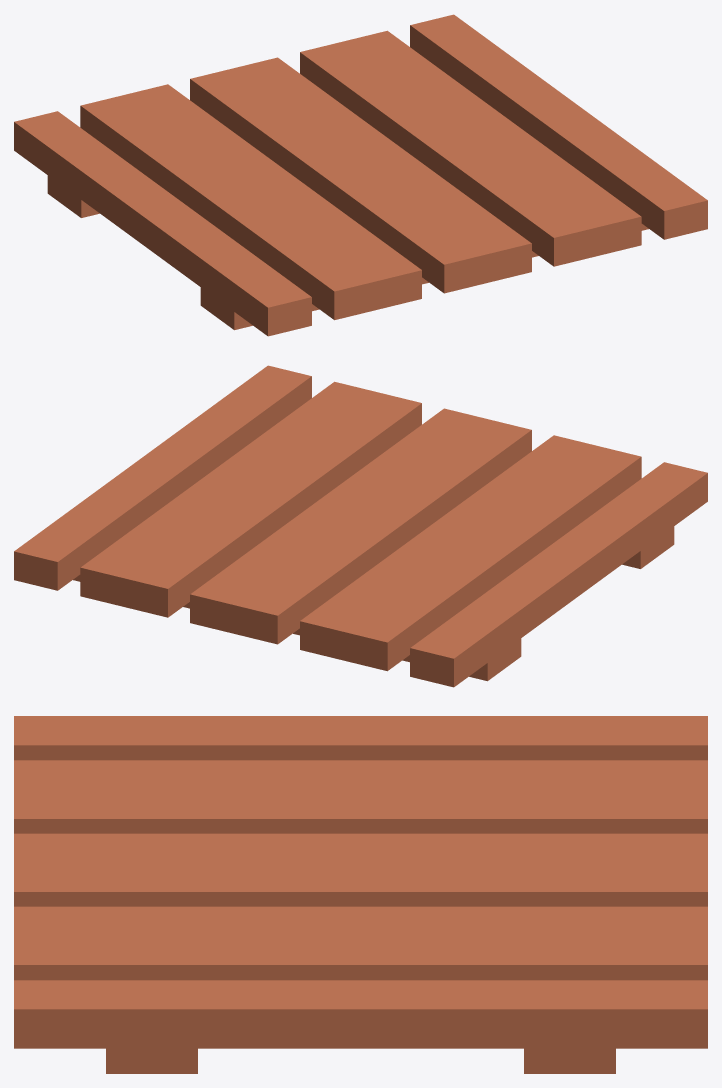
Rendered from floor.obj.
3 views of the same model, one above another, from view 1: azimuth 30°, elevation 25°; view 2: azimuth 150°, elevation 25°; view 3: azimuth 270°, elevation 25° (orthographic). The views are drawn at different scales.
Bounding box in the file's own units: 0.5 × 0.0512 × 0.5.
